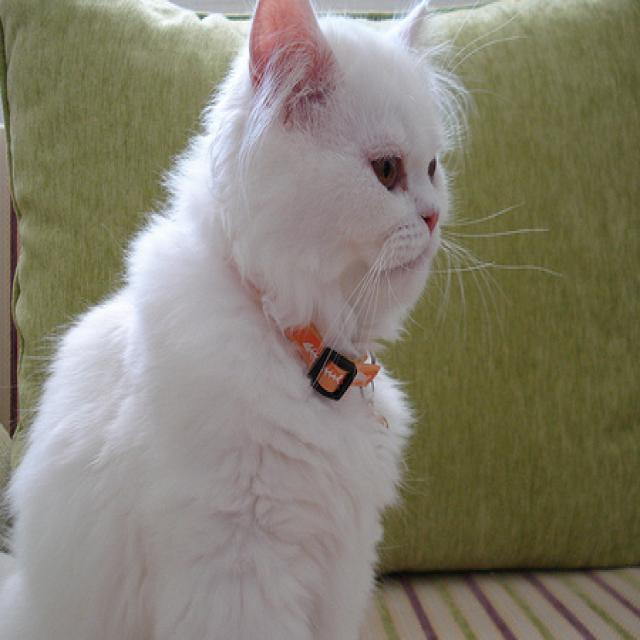Persian: (0, 0, 461, 640)
